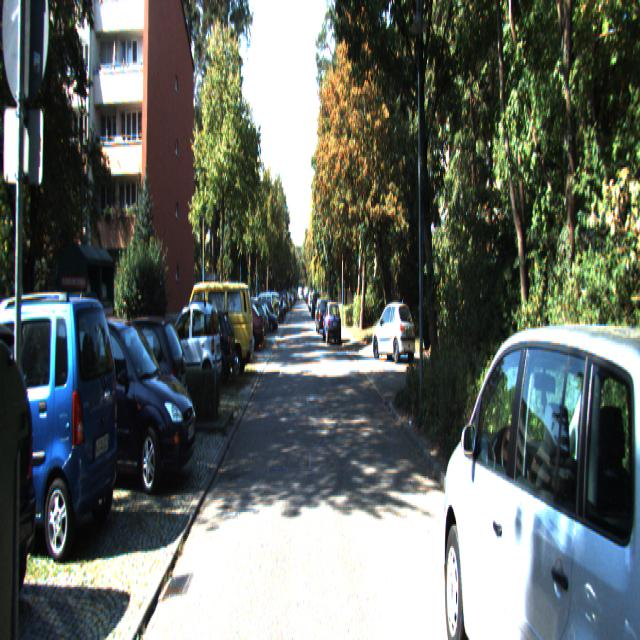Car: (437, 304, 639, 638), (0, 292, 123, 558), (47, 309, 198, 493), (0, 300, 48, 638), (82, 310, 190, 451), (185, 281, 254, 381), (156, 300, 223, 400), (171, 308, 236, 390), (371, 302, 416, 364), (322, 303, 342, 347)
